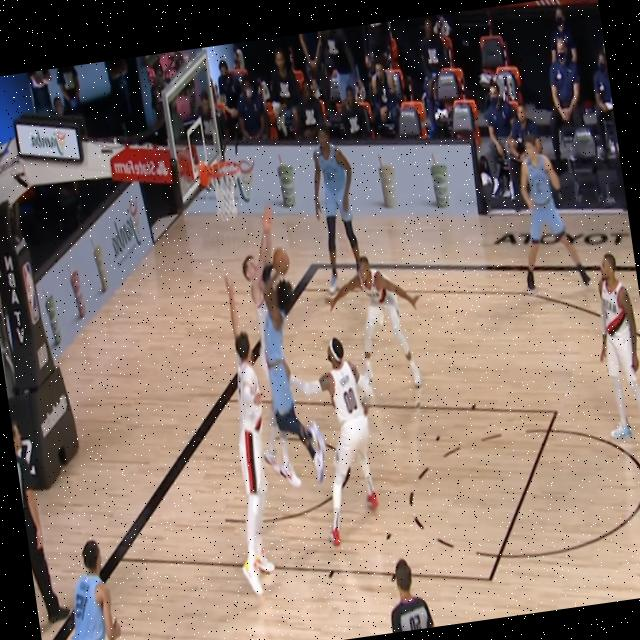foul: (232, 187, 338, 518)
no foul: (196, 260, 299, 608), (295, 318, 397, 561)
